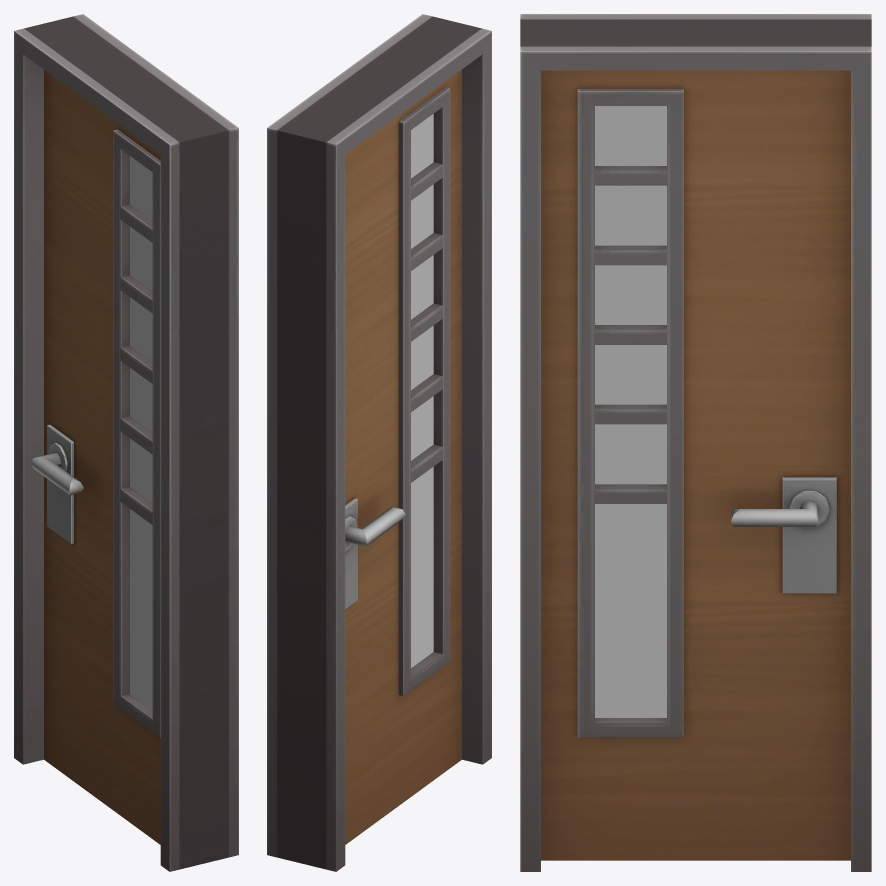
Rendered from Peek.glb.
The picture shows the model from 3 angles, left to right: view 1: azimuth 30°, elevation 25°; view 2: azimuth 150°, elevation 25°; view 3: azimuth 270°, elevation 25°; orthographic projection. The views are drawn at different scales.
Parts seen in each view (by area): view 1: s4studio_mesh_1.001_15, TinyLiving_JustALittlePeek_18, s4studio_mesh_0.001_14, s4studio_mesh_3.002_17; view 2: s4studio_mesh_1.001_15, TinyLiving_JustALittlePeek_18, s4studio_mesh_0.001_14, s4studio_mesh_3.002_17; view 3: TinyLiving_JustALittlePeek_18, s4studio_mesh_2.001_16, s4studio_mesh_1.001_15, s4studio_mesh_0.001_14.
Boxes of the visible parts, x1,y1,x2,y2 form: s4studio_mesh_1.001_15: [14, 22, 204, 871]; TinyLiving_JustALittlePeek_18: [49, 14, 238, 863]; s4studio_mesh_0.001_14: [23, 54, 152, 764]; s4studio_mesh_3.002_17: [130, 156, 152, 710]; s4studio_mesh_1.001_15: [301, 22, 491, 871]; TinyLiving_JustALittlePeek_18: [267, 14, 456, 863]; s4studio_mesh_0.001_14: [411, 54, 482, 764]; s4studio_mesh_3.002_17: [411, 114, 433, 667]; TinyLiving_JustALittlePeek_18: [520, 33, 871, 871]; s4studio_mesh_2.001_16: [595, 106, 666, 717]; s4studio_mesh_1.001_15: [520, 14, 871, 32]; s4studio_mesh_0.001_14: [595, 166, 666, 723].
Size of the model in its own units: 0.263 by 2.19 by 0.85.
2 materials, 1 textured.
